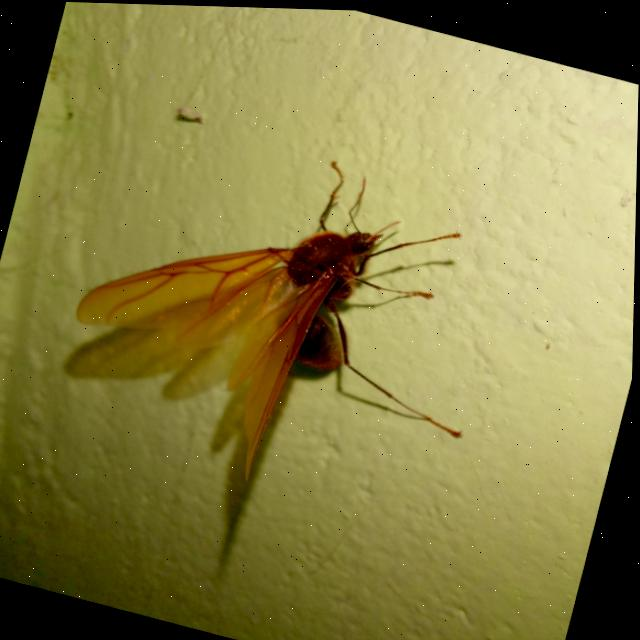Alive-Male-Alate: (47, 103, 522, 530)
